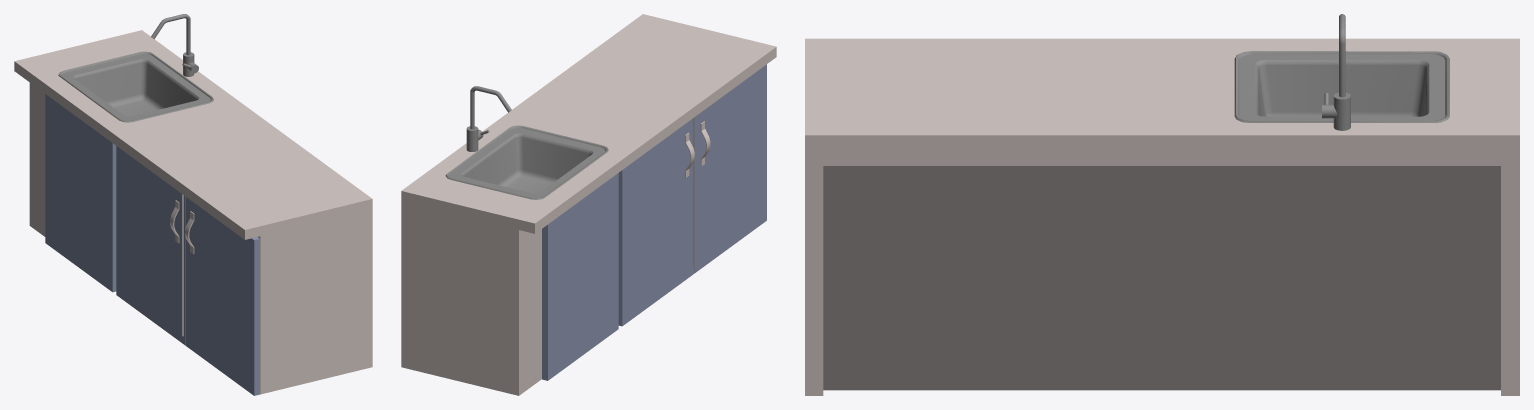
Rendered from Sink.fbx.
3 renders of one model, left to right at view 1: azimuth 30°, elevation 25°; view 2: azimuth 150°, elevation 25°; view 3: azimuth 270°, elevation 25°, orthographic. The views are drawn at different scales.
Parts seen in each view (by area): view 1: Sink; view 2: Sink; view 3: Sink.
Boxes of the visible parts, left/top/right/bottom form: Sink: left=14, top=14, right=372, bottom=395; Sink: left=401, top=14, right=776, bottom=395; Sink: left=805, top=14, right=1519, bottom=395.
Size of the model in its own units: 101 by 173 by 315.
